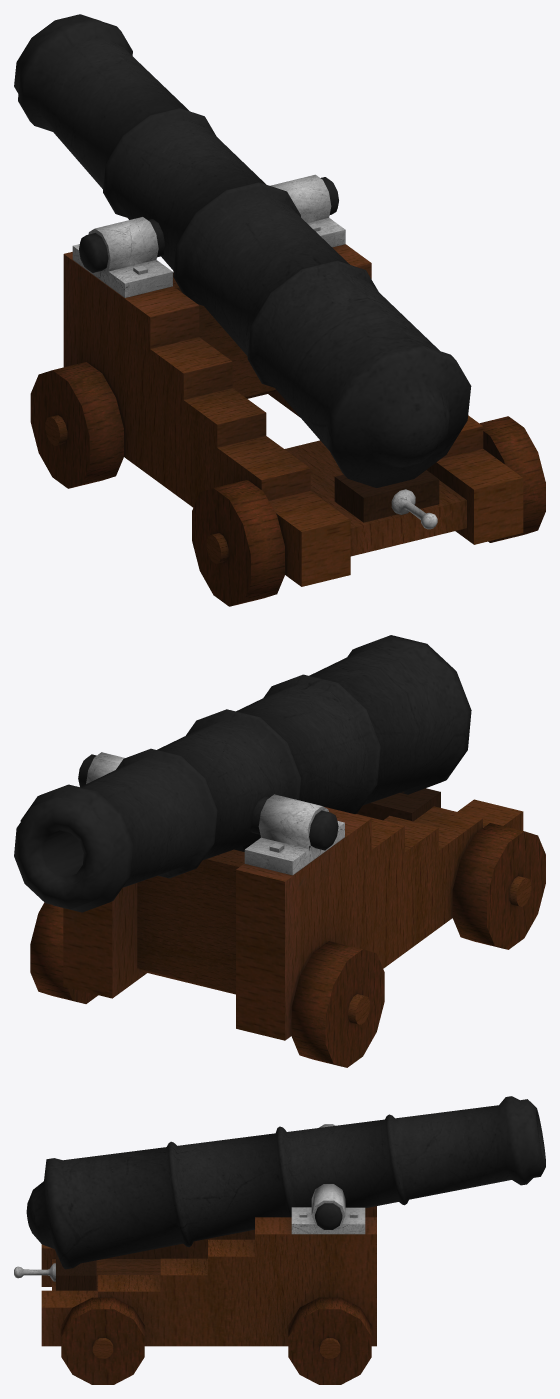
File: cannon.obj
3 renders of one model, top to bottom at view 1: azimuth 30°, elevation 25°; view 2: azimuth 150°, elevation 25°; view 3: azimuth 270°, elevation 25°, orthographic. The views are drawn at different scales.
Parts seen in each view (by area): view 1: Cannon_Tube; view 2: Cannon_Tube; view 3: Cannon_Tube.
Boxes of the visible parts, left/top/right/bottom form: Cannon_Tube: left=14, top=14, right=545, bottom=606; Cannon_Tube: left=14, top=635, right=545, bottom=1067; Cannon_Tube: left=14, top=1096, right=545, bottom=1384.
Bounding box in the file's own units: 3.21 × 3.27 × 6.77.
Materials: 1 (1 with a texture image).
